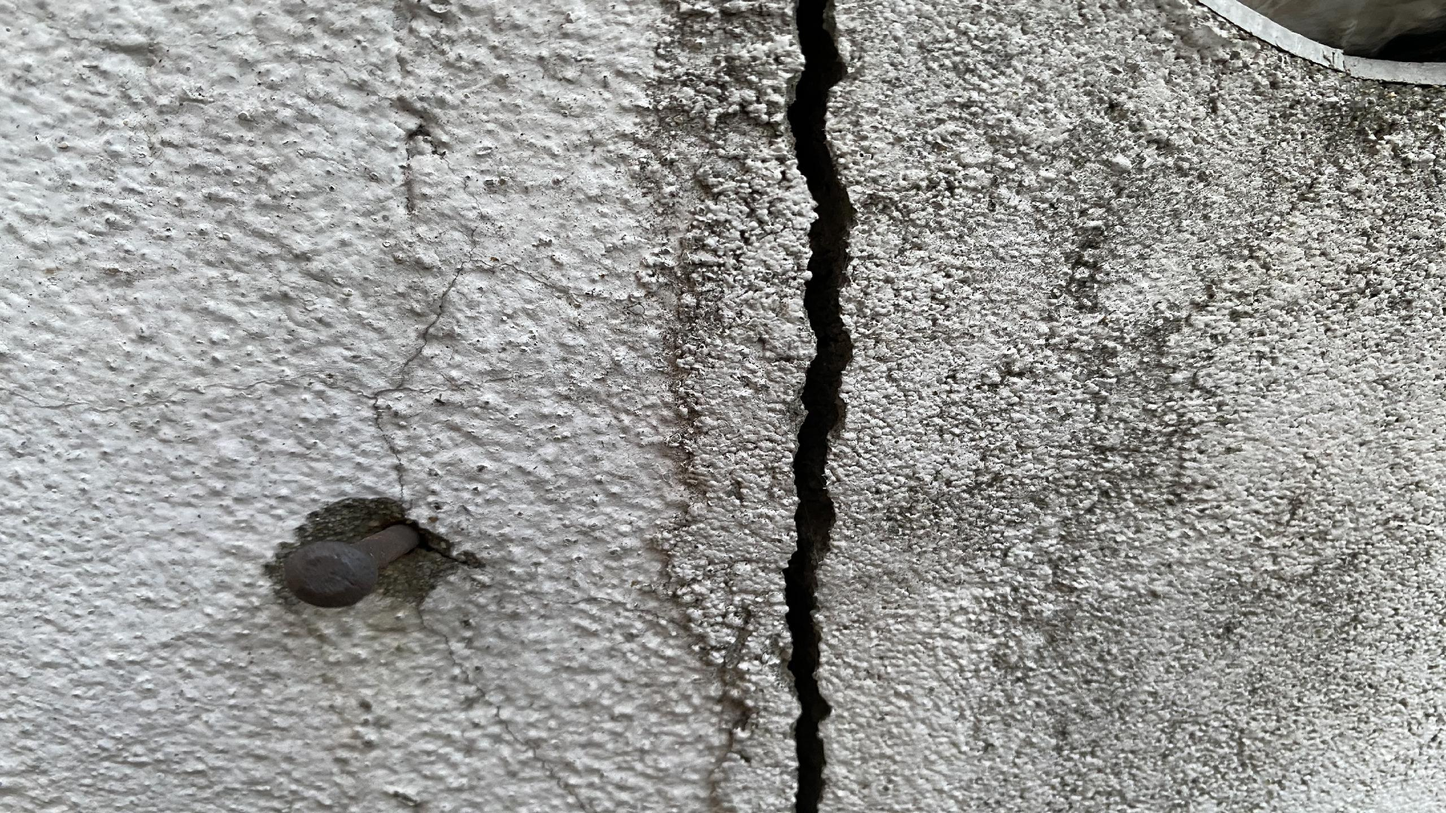crack: (780, 0, 858, 809)
